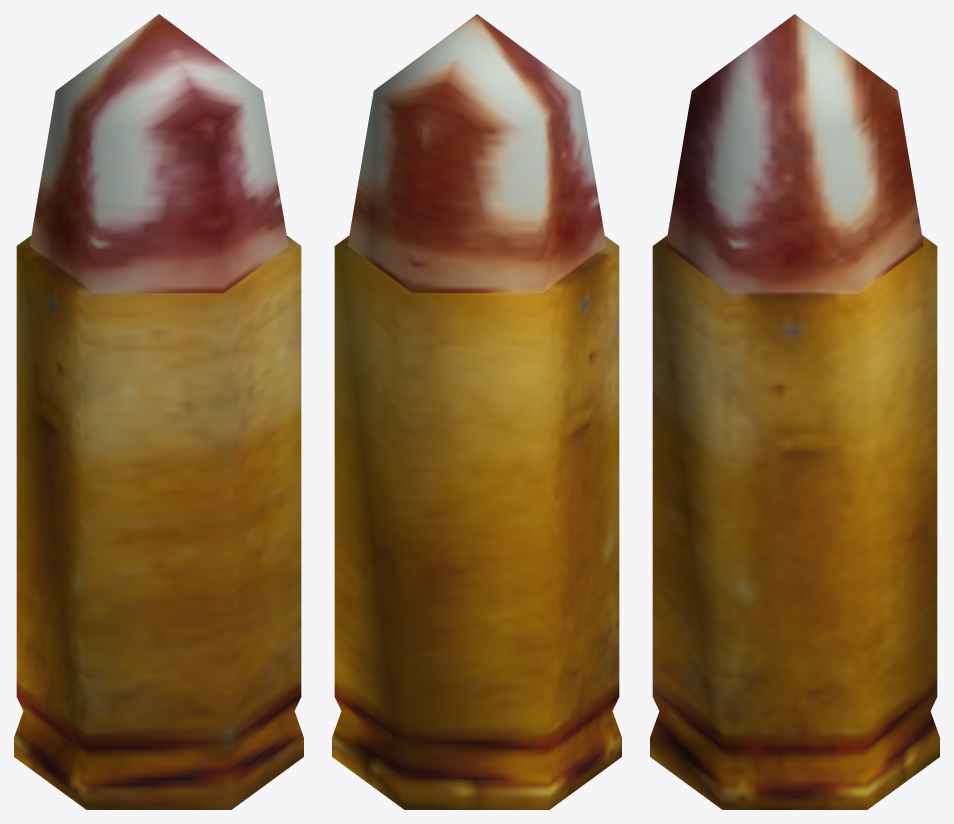
File: Ammo.glb
3 views of the same model, side by side, from view 1: azimuth 30°, elevation 25°; view 2: azimuth 150°, elevation 25°; view 3: azimuth 270°, elevation 25° (orthographic).
Visible parts, largest first — view 1: Pistol_caliber_1; view 2: Pistol_caliber_1; view 3: Pistol_caliber_1.
Boxes of the visible parts, <box> form: Pistol_caliber_1: <box>14,14,303,809</box>; Pistol_caliber_1: <box>332,14,621,809</box>; Pistol_caliber_1: <box>650,14,939,809</box>.
Bounding box in the file's own units: 0.4734 × 1.55 × 0.5466.
Materials: 1 (1 with a texture image).
